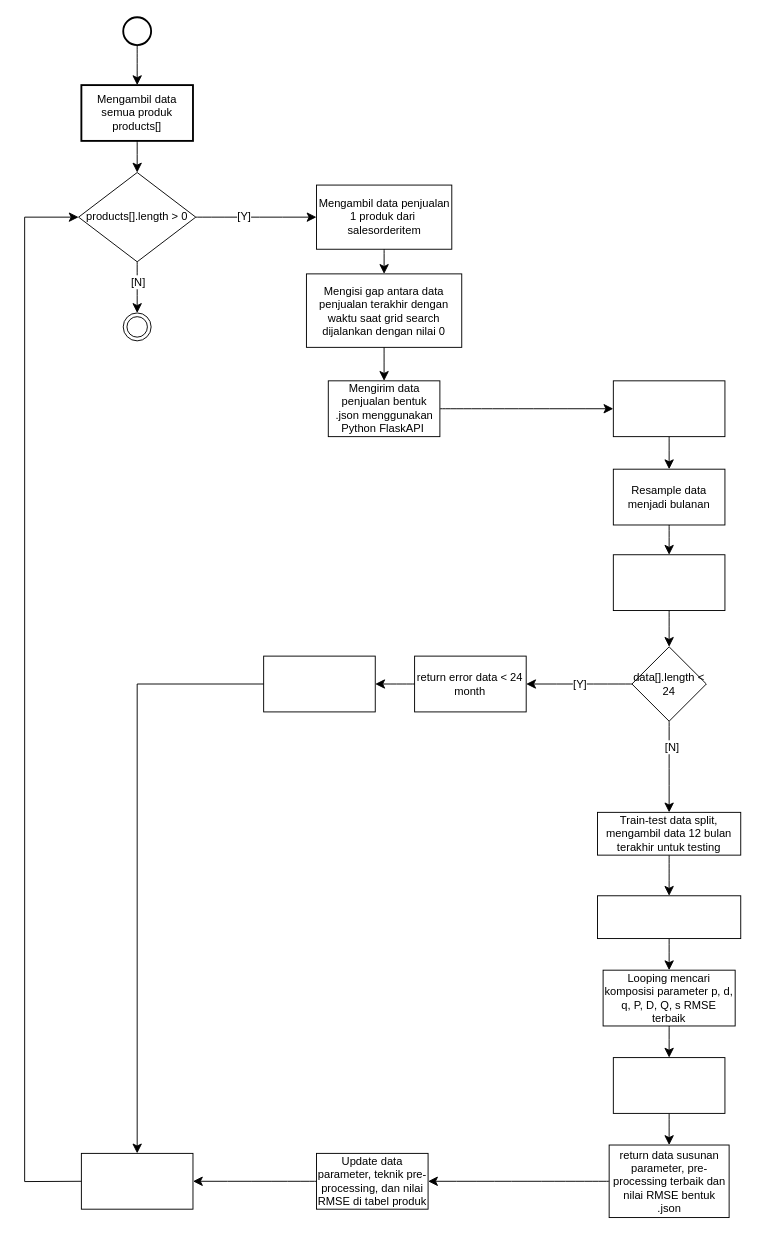
The diagram is 757 pixels wide and 1234 high, and some of its shapes have lost their labels. The shapes that lost their labels are listed below. From the top down, each one's box as (x1, y1, x2, y2) in pixels, then its label:
(612, 380, 725, 437): Python menerima data penjualan dalam bentuk .json
(612, 554, 725, 611): Mengisi data yang hilang dengan 0
(263, 655, 375, 712): return error
(597, 895, 741, 939): p, d, q, P, D, Q, s value initialization
(612, 1057, 725, 1113): Looping mencari teknik pre-processing dengan RMSE terbaik
(80, 1152, 193, 1209): product[i].pop()
